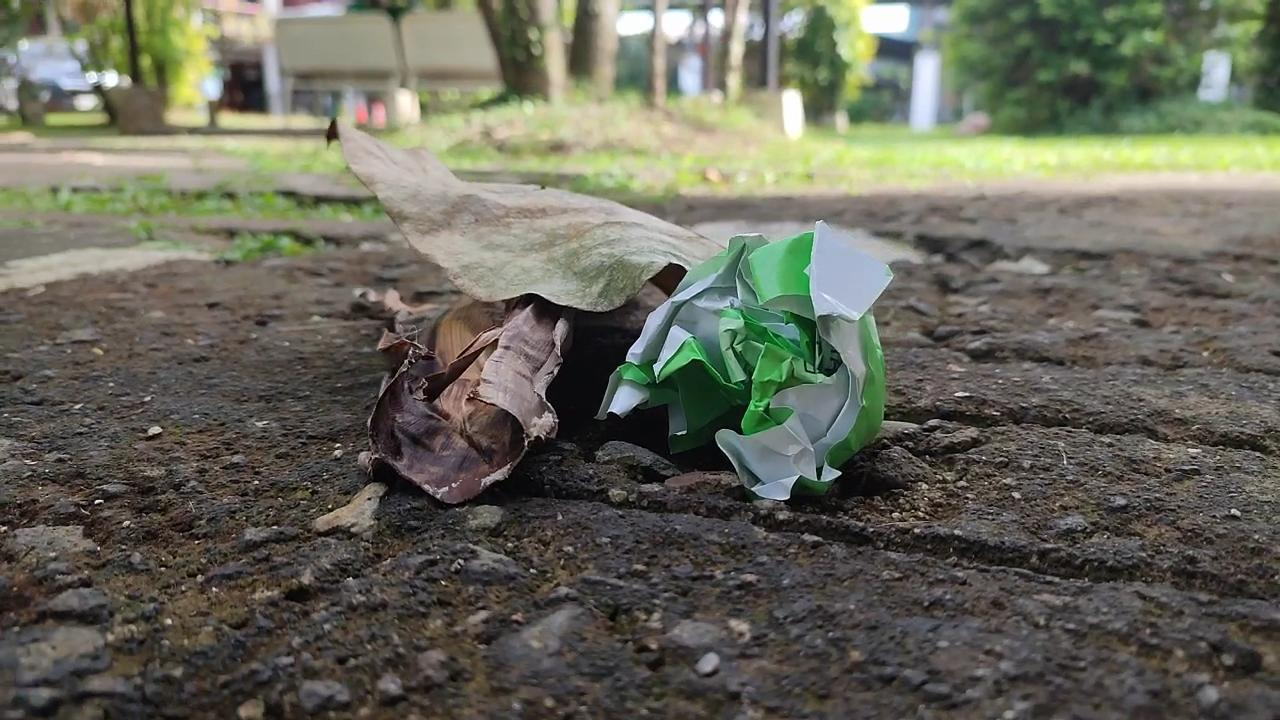Paper: (599, 208, 914, 521)
